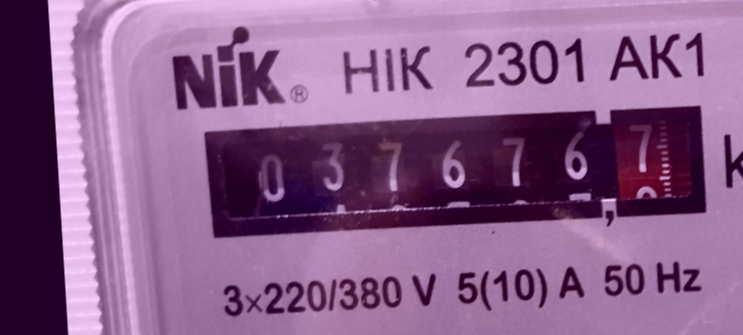0: (254, 148, 291, 205)
3: (316, 136, 347, 194)
6: (435, 134, 470, 190), (559, 126, 592, 182)
7: (497, 132, 532, 192), (374, 136, 408, 194), (626, 118, 657, 176)
screen: (188, 83, 724, 261)
